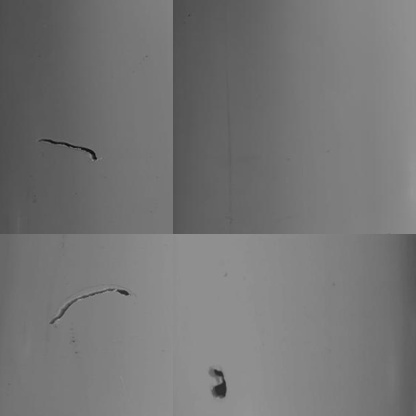fengxi: (49, 287, 137, 330), (37, 135, 110, 169)
kongdong: (205, 363, 228, 398)
